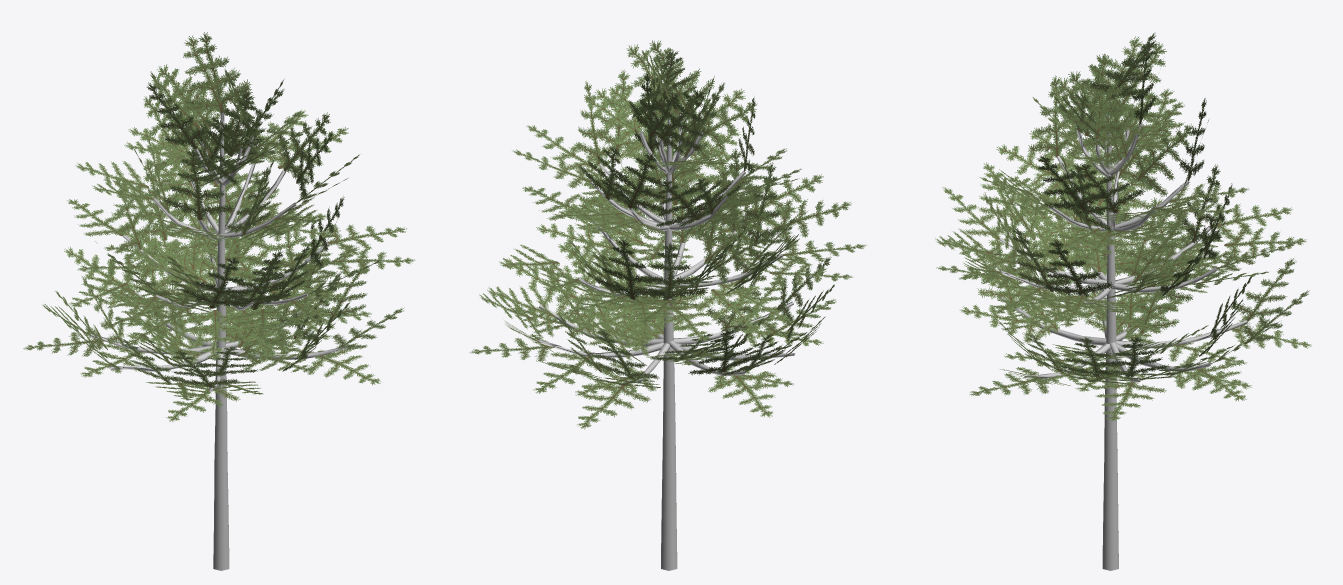
Rendered from tree-textured1TEST.fbx.
3 views of the same model, side by side, from view 1: azimuth 30°, elevation 25°; view 2: azimuth 150°, elevation 25°; view 3: azimuth 270°, elevation 25° (orthographic). The views are drawn at different scales.
Parts seen in each view (by area): view 1: tree; view 2: tree; view 3: tree.
Part boxes in pixels (x1,y1,x2,y2): tree: (23, 32, 415, 570); tree: (469, 40, 866, 570); tree: (935, 32, 1311, 570).
Size of the model in its own units: 973 by 1402 by 972.
